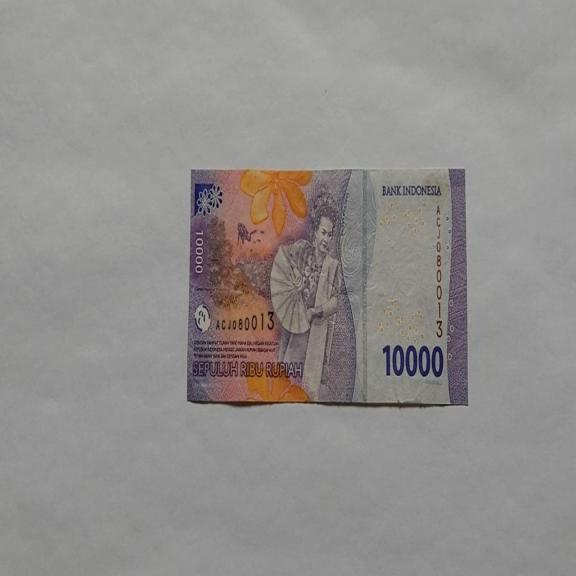Kertas: (187, 166, 468, 407), (381, 342, 444, 379)
